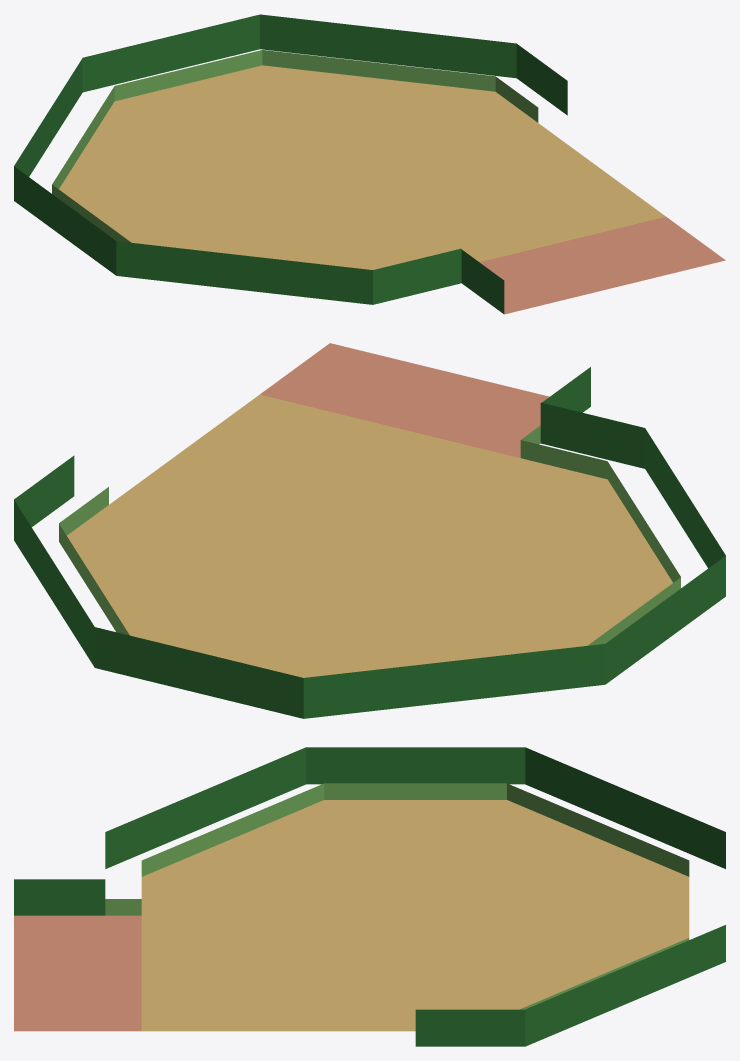
Rendered from garden.dae.
3 renders of one model, top to bottom at view 1: azimuth 30°, elevation 25°; view 2: azimuth 150°, elevation 25°; view 3: azimuth 270°, elevation 25°, orthographic. The views are drawn at different scales.
Visible parts, largest first — view 1: $dummy_node (×4); view 2: $dummy_node (×4); view 3: $dummy_node (×4).
Part boxes in pixels (bbox=[...]): $dummy_node (×4): bbox=[14, 14, 725, 314]; $dummy_node (×4): bbox=[14, 343, 725, 718]; $dummy_node (×4): bbox=[14, 747, 725, 1046].
Size of the model in its own units: 34 by 2.25 by 39.
